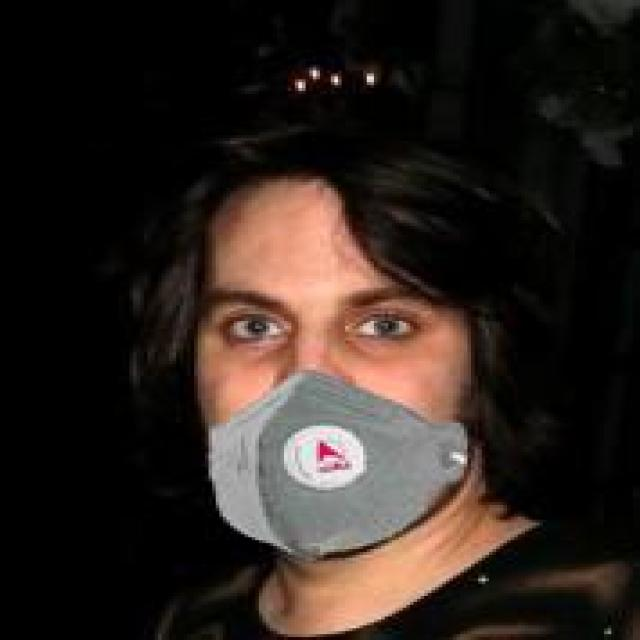mask: (111, 73, 540, 555)
